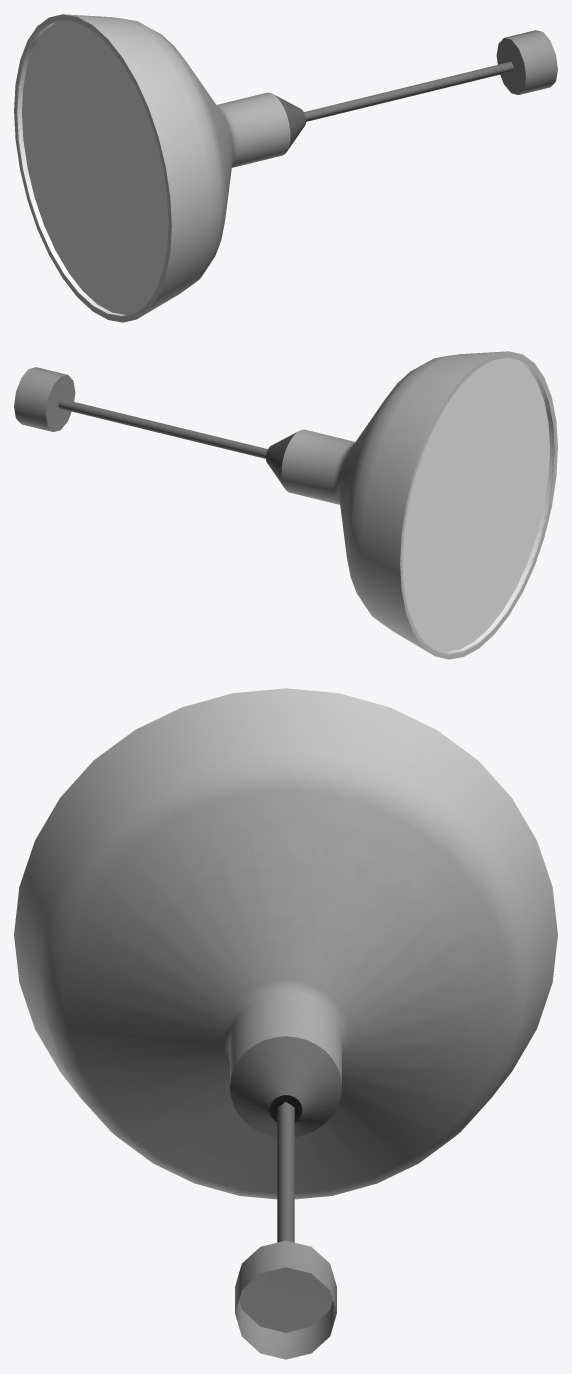
Rendered from props_spytech_spytech_hanging_light_52.glb.
3 views of the same model, one above another, from view 1: azimuth 30°, elevation 25°; view 2: azimuth 150°, elevation 25°; view 3: azimuth 270°, elevation 25° (orthographic). The views are drawn at different scales.
Visible parts, largest first — view 1: models/props_spytech/spytech_hanging_light_52; view 2: models/props_spytech/spytech_hanging_light_52; view 3: models/props_spytech/spytech_hanging_light_52.
Part boxes in pixels (x1=…): models/props_spytech/spytech_hanging_light_52: x1=14, y1=14, x2=557, y2=322; models/props_spytech/spytech_hanging_light_52: x1=14, y1=351, x2=557, y2=659; models/props_spytech/spytech_hanging_light_52: x1=14, y1=688, x2=557, y2=1359.
Size of the model in its own units: 52 by 31.59 by 31.59.
Materials: 1 (1 with a texture image).
